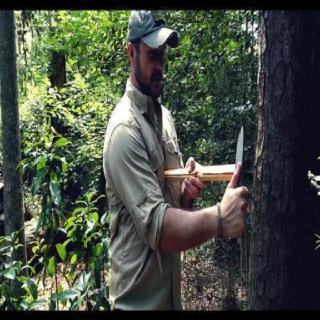knife: (228, 120, 250, 222)
